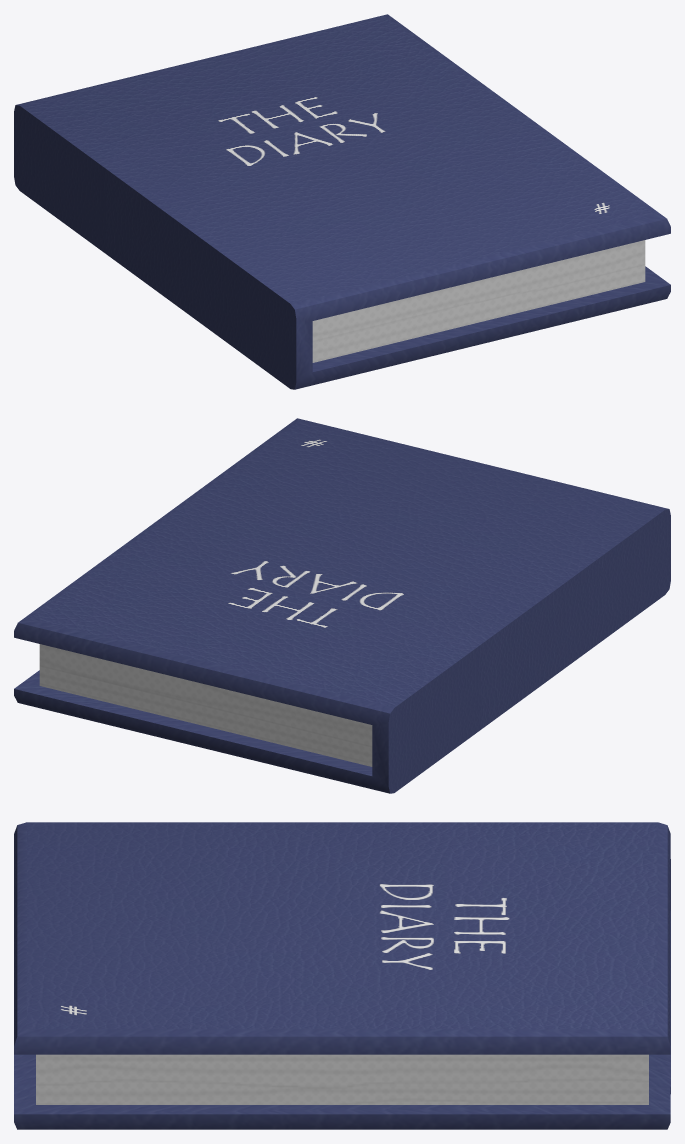
File: diary.glb
3 renders of one model, top to bottom at view 1: azimuth 30°, elevation 25°; view 2: azimuth 150°, elevation 25°; view 3: azimuth 270°, elevation 25°, orthographic. The views are drawn at different scales.
Parts seen in each view (by area): view 1: Box001; view 2: Box001; view 3: Box001.
Boxes of the visible parts, left/top/right/bottom form: Box001: left=14, top=14, right=670, bottom=389; Box001: left=14, top=418, right=670, bottom=793; Box001: left=14, top=822, right=670, bottom=1129.
Size of the model in its own units: 0.23 by 0.05 by 0.3001.
Materials: 1 (1 with a texture image).
